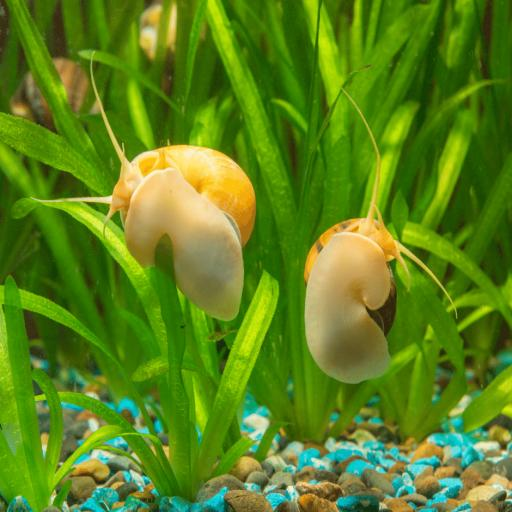Snail: (35, 53, 261, 331), (288, 86, 465, 388)
